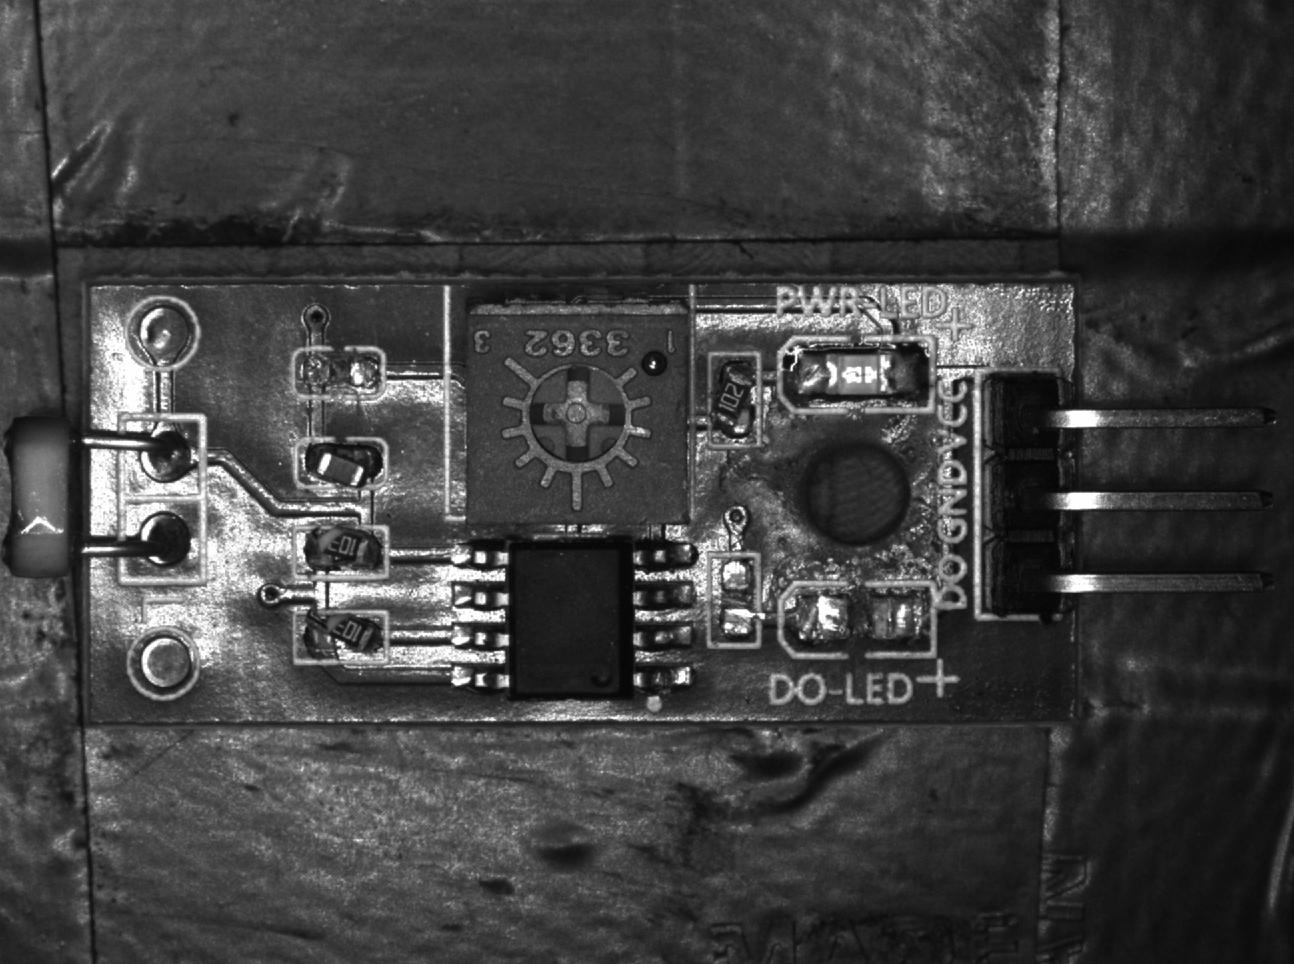lifted: (291, 523, 390, 581), (292, 609, 392, 666), (705, 350, 762, 449), (294, 438, 388, 492)
miss: (706, 553, 762, 649), (292, 348, 385, 396)
